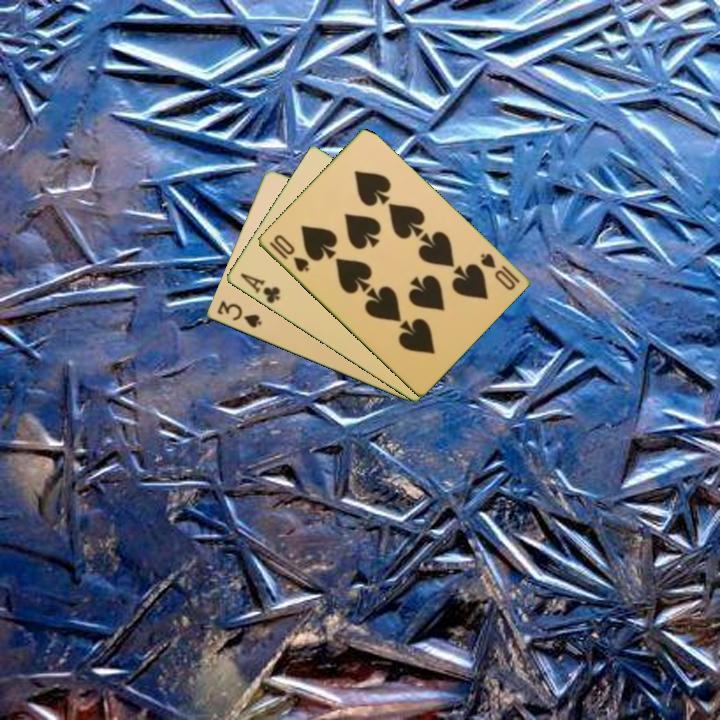10s: (265, 231, 312, 275), (476, 250, 522, 293)
3s: (213, 297, 264, 331)
Ac: (236, 270, 283, 306)
